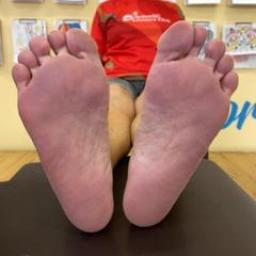Plantar View -Both Feet-: (4, 10, 249, 240)
